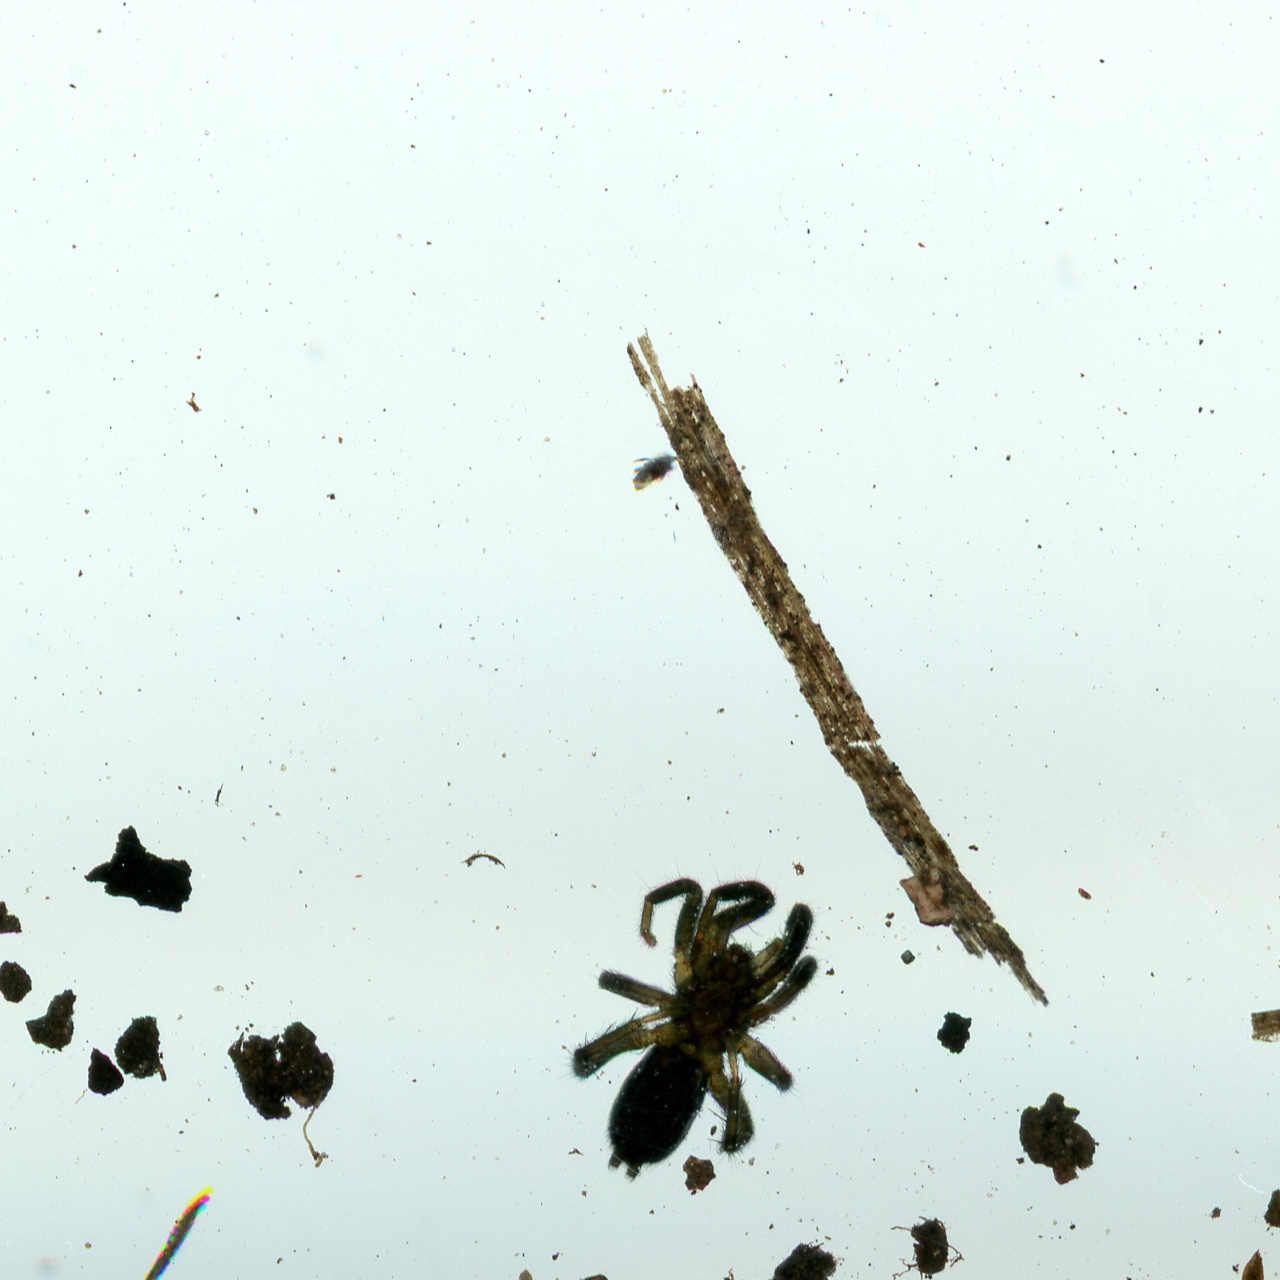arthropod: (549, 859, 831, 1186), (627, 445, 680, 495)
